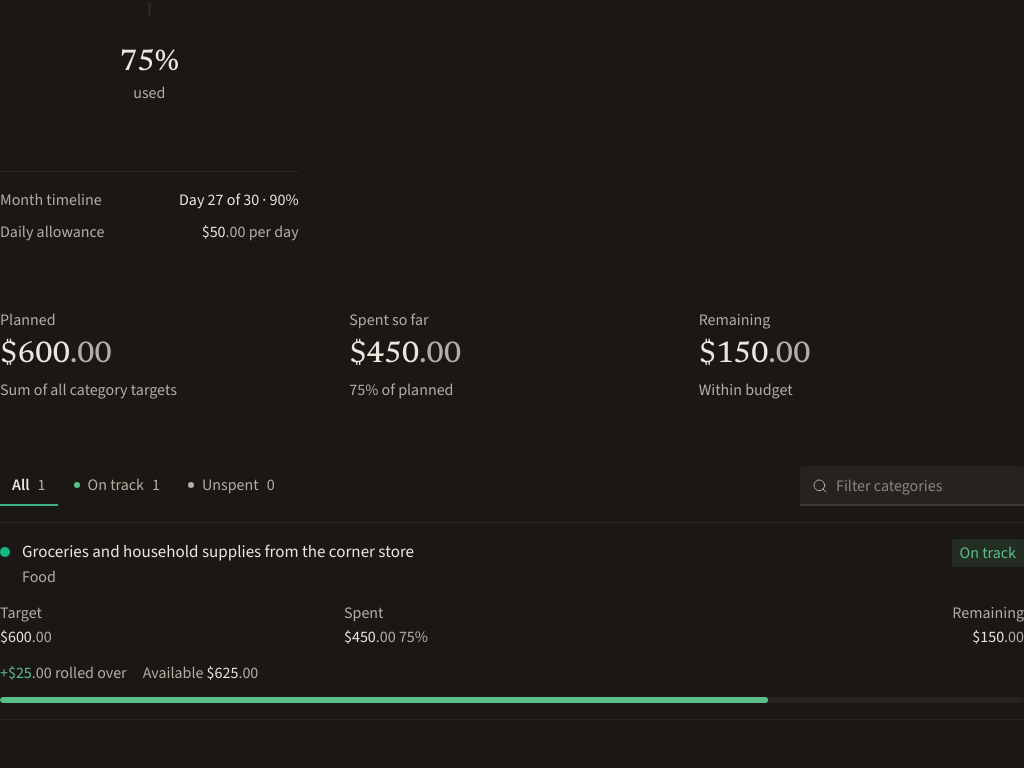
Scenario: Budget on a phone › edits the target inside the sheet
Later steps or results of the test are not shown.
(page scrolled)
Click the 4th button.
click(512, 707)  # box x1=0 y1=523 x2=1023 y2=719
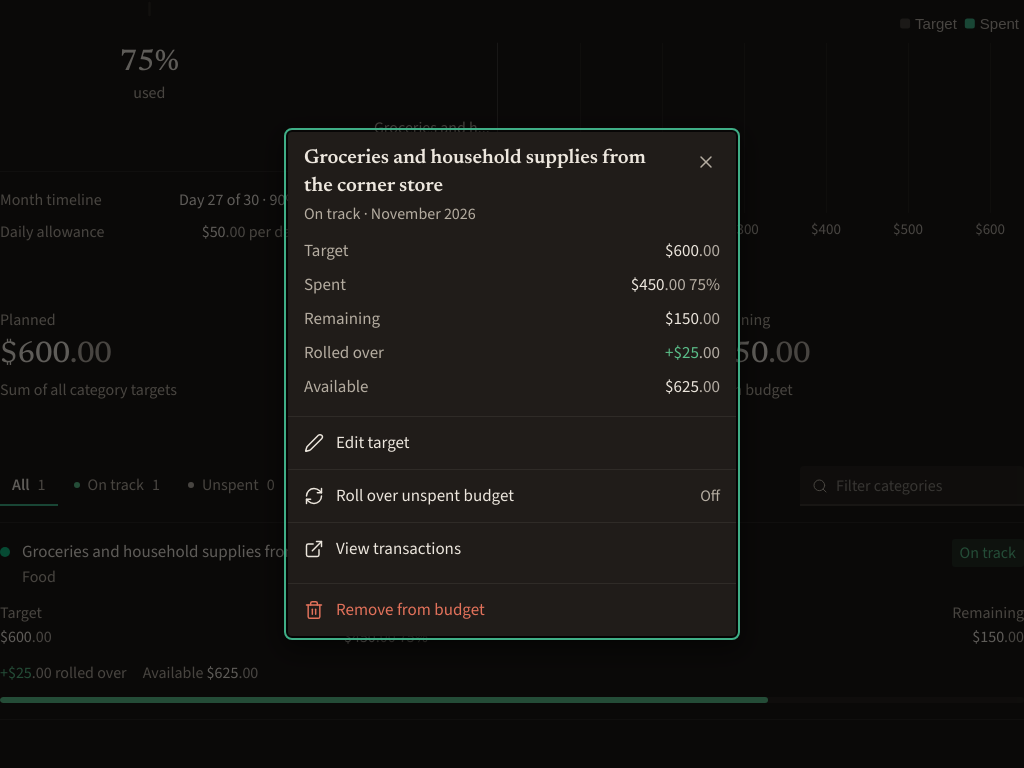
Click the button "Edit target".
click(373, 442)  # box x1=288 y1=417 x2=736 y2=469
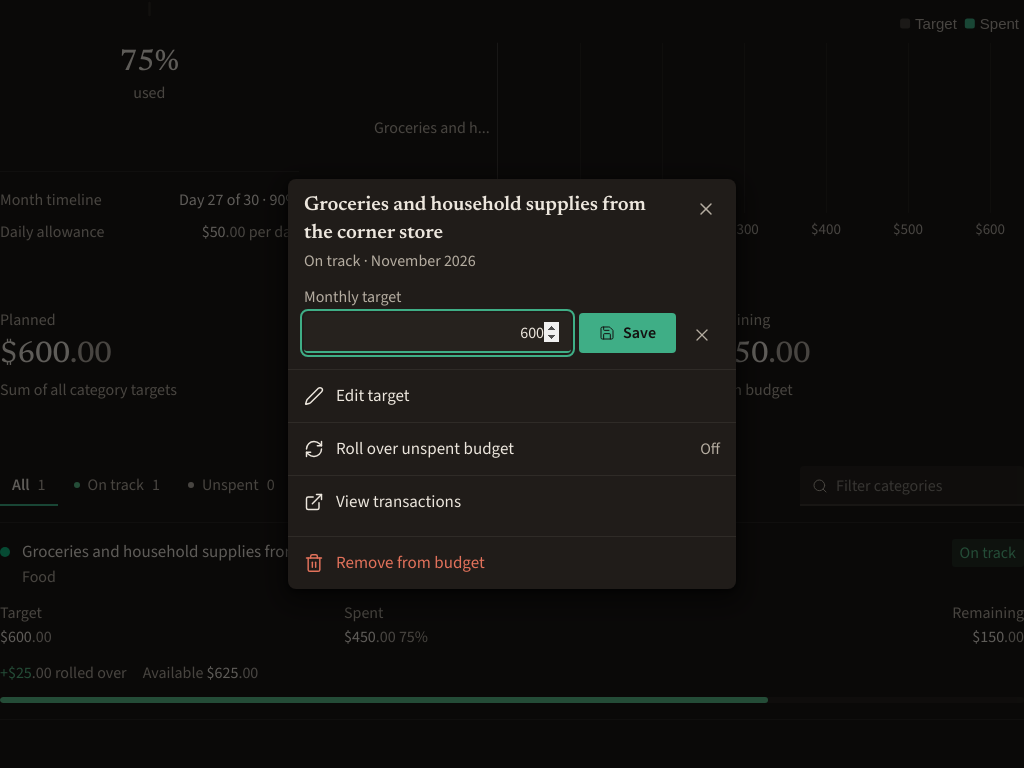
Replace the text in the number field labelled "Monthly target" with "700" at (438, 333), box x1=304 y1=313 x2=571 y2=353
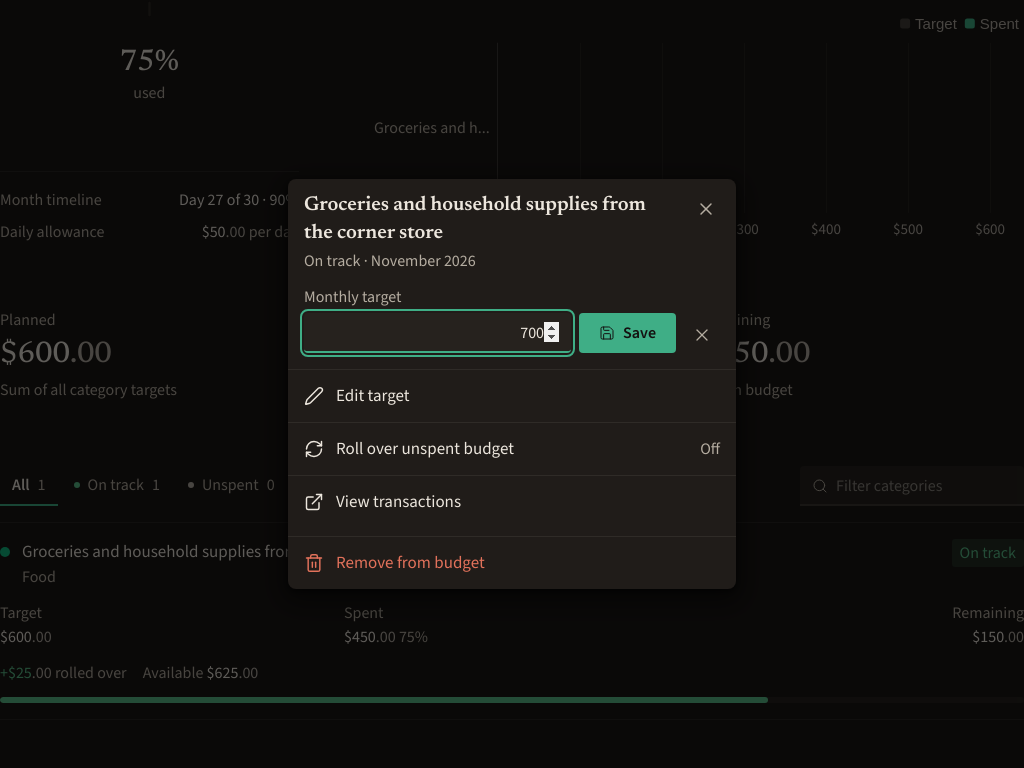
Check: the button "Save" is shown, box x1=579 y1=313 x2=676 y2=353
